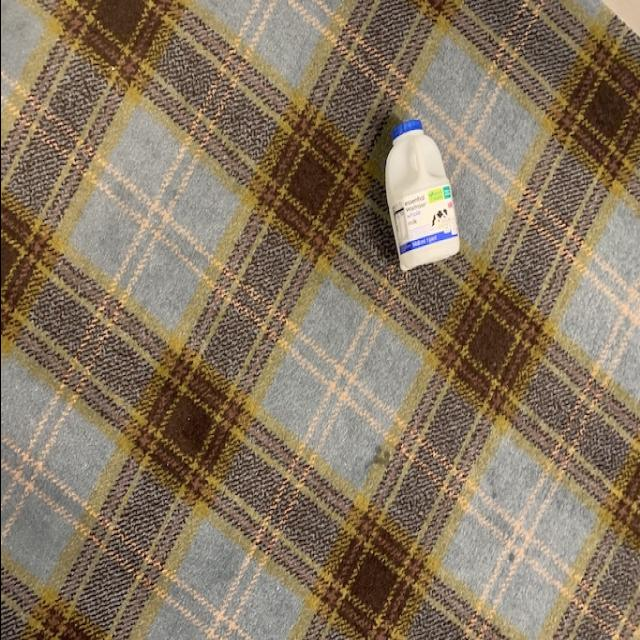litter: (377, 118, 462, 280)
